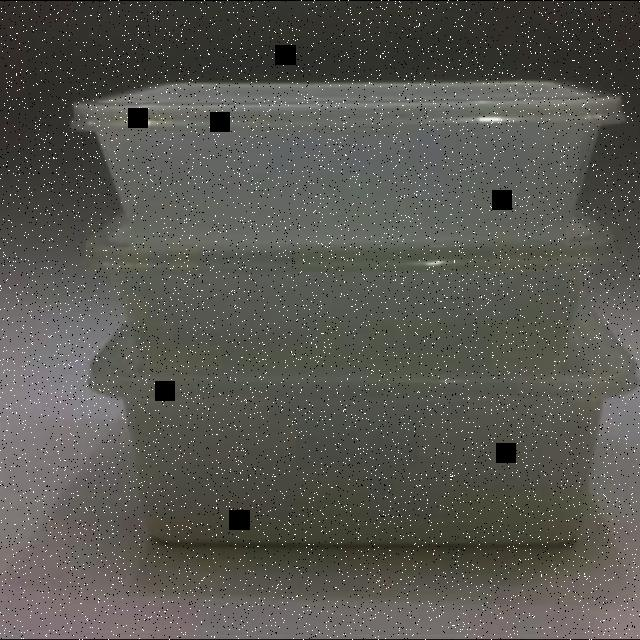plastic_box: (84, 300, 634, 548), (88, 202, 618, 384), (73, 82, 623, 248)
